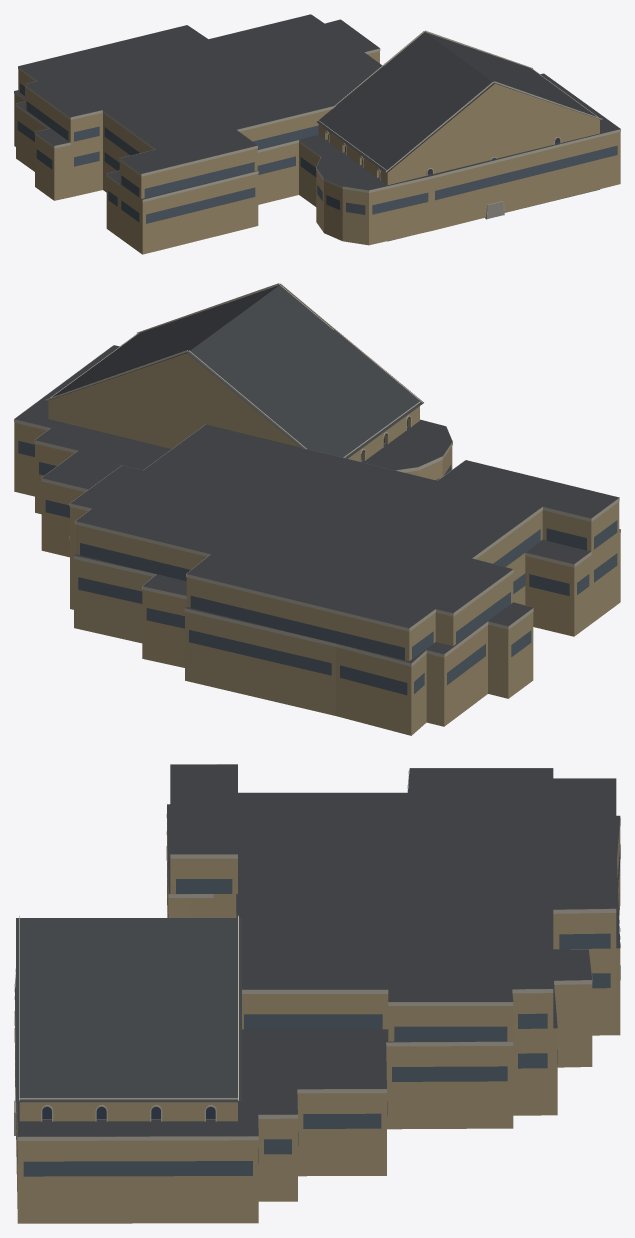
Rendered from lakewood-umc-nlr.glb.
3 views of the same model, one above another, from view 1: azimuth 30°, elevation 25°; view 2: azimuth 150°, elevation 25°; view 3: azimuth 270°, elevation 25° (orthographic). The views are drawn at different scales.
Visible parts, largest first — view 1: lakewood_umc_nlr; view 2: lakewood_umc_nlr; view 3: lakewood_umc_nlr.
Boxes of the visible parts, bbox=[...] form: lakewood_umc_nlr: bbox=[14, 14, 620, 254]; lakewood_umc_nlr: bbox=[14, 283, 620, 735]; lakewood_umc_nlr: bbox=[14, 764, 620, 1223].
Bounding box in the file's own units: 83.37 × 24.23 × 62.57.
